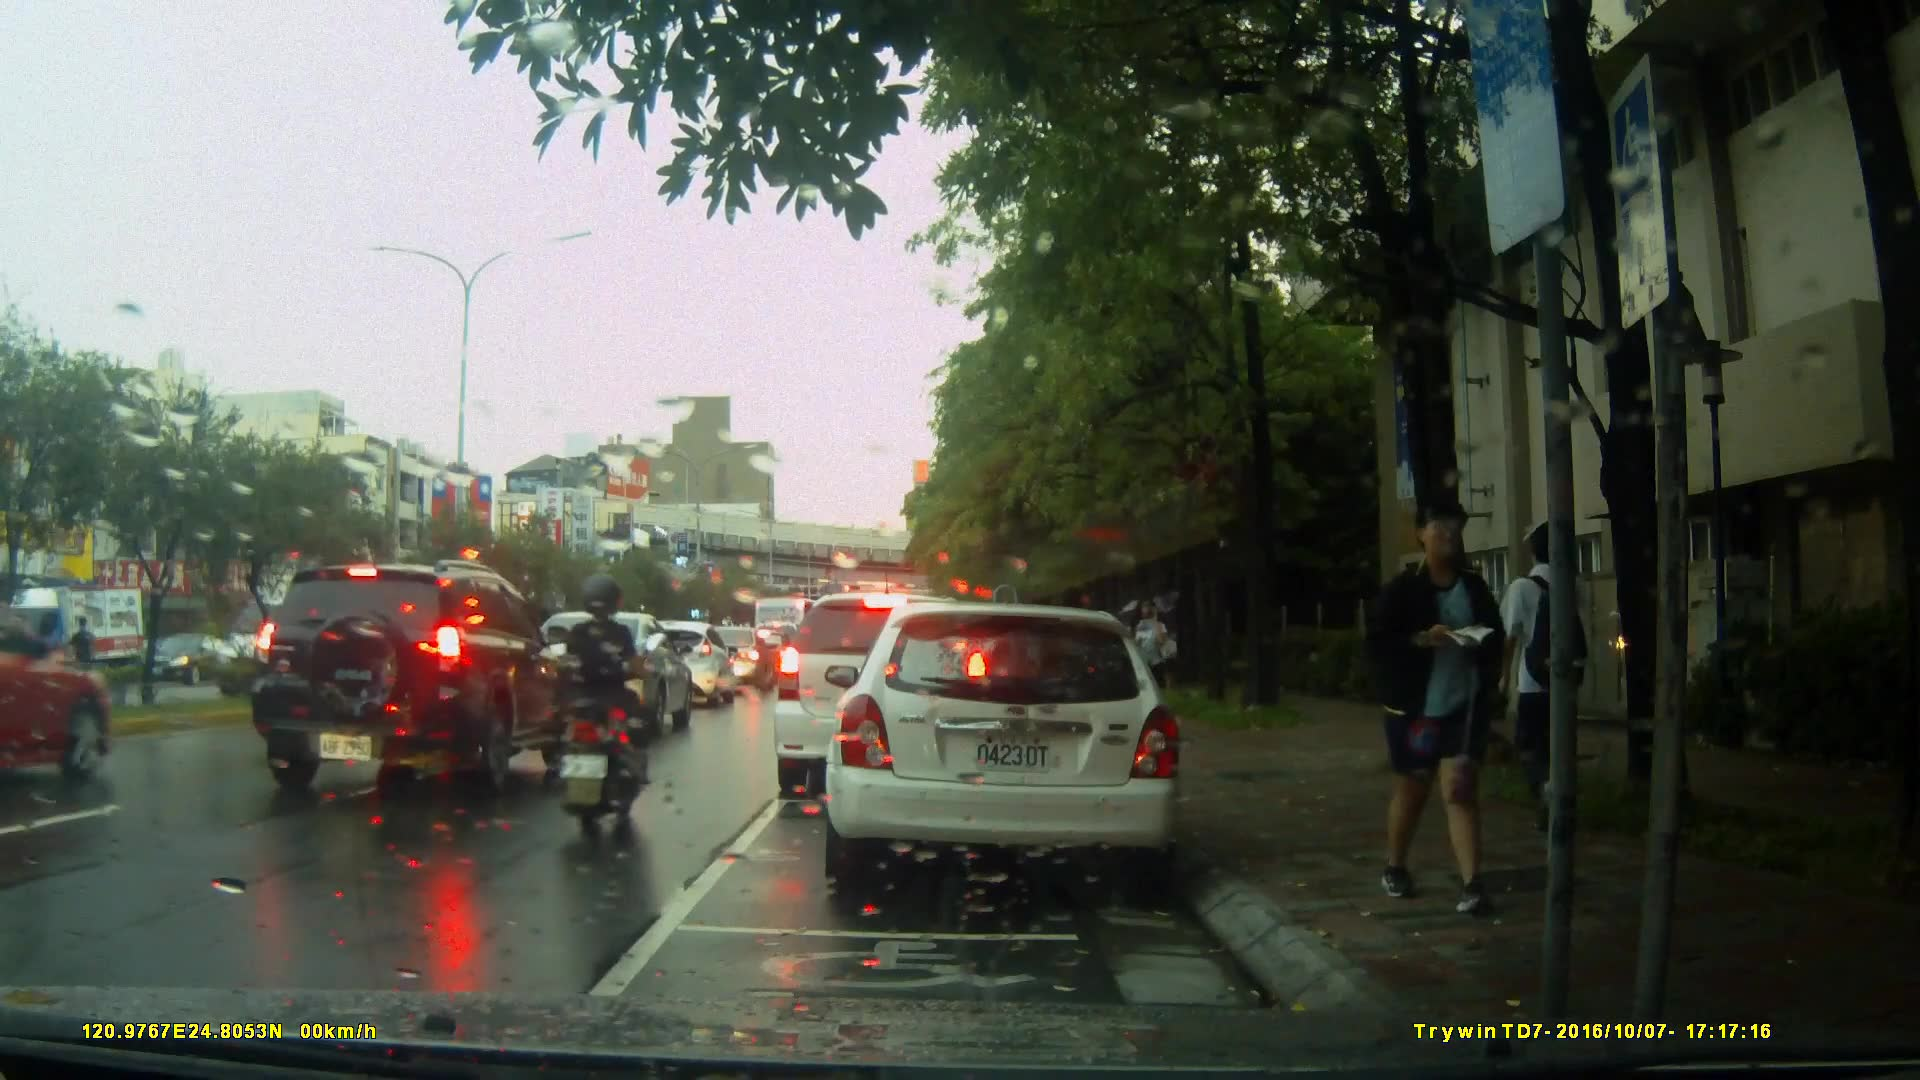pedestrian: (1369, 484, 1526, 916), (1508, 499, 1591, 832), (1125, 588, 1177, 730)
rider: (548, 570, 660, 833)
vehicle: (815, 593, 1200, 899), (243, 557, 582, 804), (771, 590, 995, 802), (508, 610, 692, 743), (1, 588, 117, 796), (1, 584, 150, 686), (696, 626, 767, 686)
